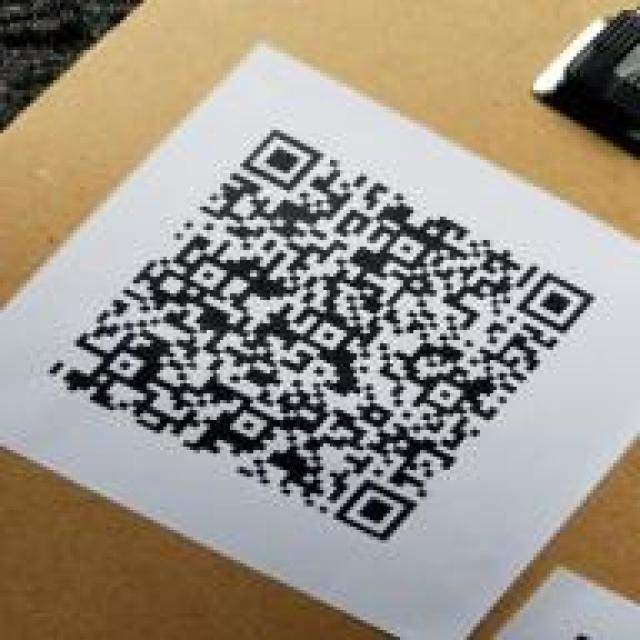qr_code: (48, 128, 598, 543)
